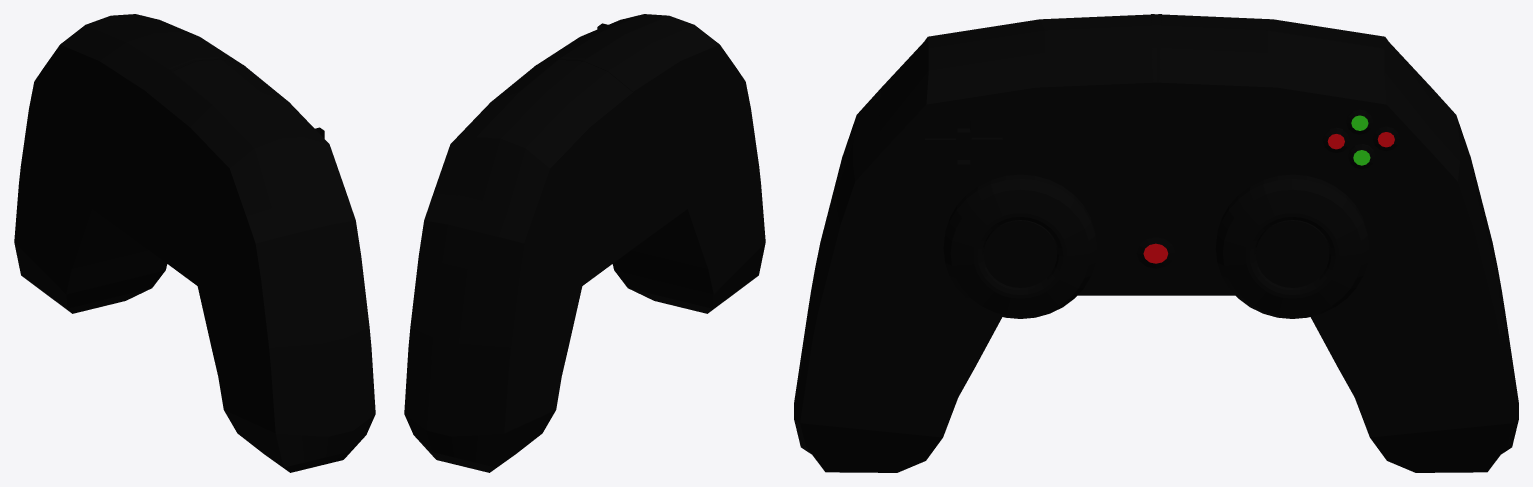
Rendered from Mando.glb.
The picture shows the model from 3 angles, left to right: view 1: azimuth 30°, elevation 25°; view 2: azimuth 150°, elevation 25°; view 3: azimuth 270°, elevation 25°; orthographic projection. The views are drawn at different scales.
Parts seen in each view (by area): view 1: Cube.001; view 2: Cube.001; view 3: Cube.001.
Part boxes in pixels (bbox=[...]): Cube.001: bbox=[14, 14, 375, 472]; Cube.001: bbox=[404, 14, 765, 472]; Cube.001: bbox=[794, 14, 1518, 472].
Bounding box in the file's own units: 1.77 × 4.07 × 6.21.
Materials: 3 (1 with a texture image).
